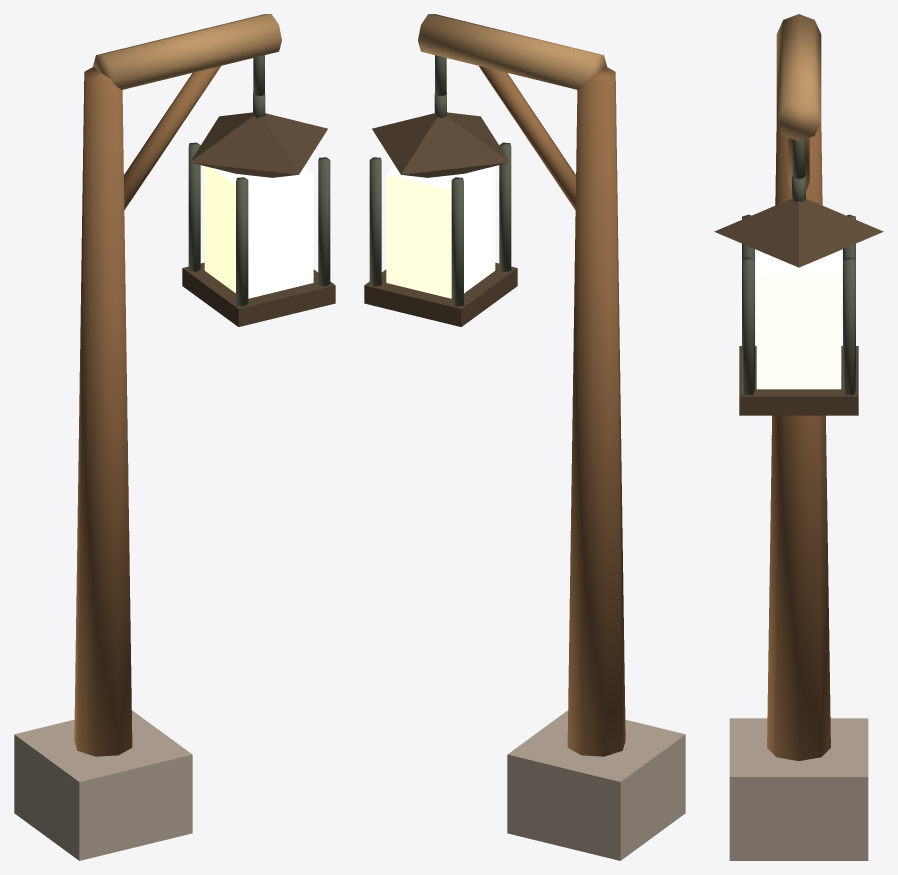
The model's file is lamp_post.glb.
The picture shows the model from 3 angles, left to right: view 1: azimuth 30°, elevation 25°; view 2: azimuth 150°, elevation 25°; view 3: azimuth 270°, elevation 25°; orthographic projection. The views are drawn at different scales.
Visible parts, largest first — view 1: lamp_post; view 2: lamp_post; view 3: lamp_post.
Boxes of the visible parts, bbox=[...] form: lamp_post: bbox=[14, 14, 335, 860]; lamp_post: bbox=[364, 14, 685, 860]; lamp_post: bbox=[714, 14, 883, 860].
Size of the model in its own units: 1.12 by 2.92 by 0.5504.
